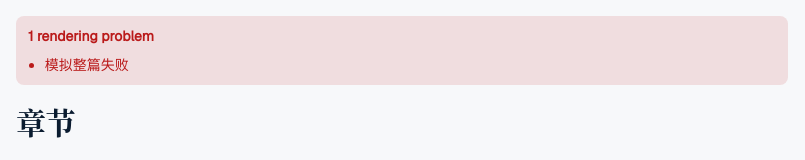
it: 诊断提示条 › error 级诊断以页内提示条呈现，可折叠且不弹通知
Check: the element with class "readora-diagnostic-bar" shows "模拟整篇失败", box [45,56,129,74]
Click the button with class "readora-diagnostic-toggle".
click(91, 36)  # box [28,24,154,48]
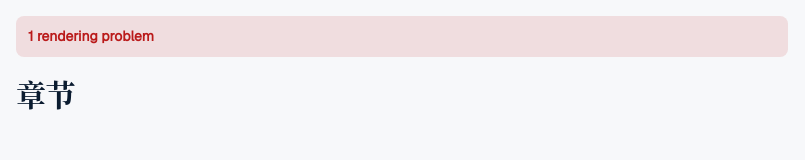
Check: the list with class "readora-diagnostic-list" is gone
